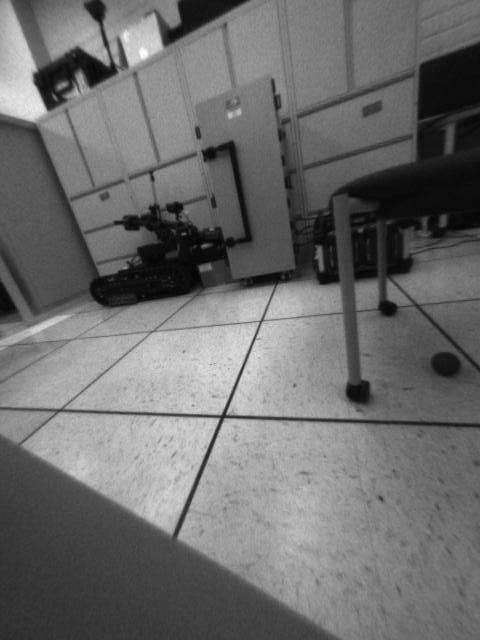dogtoy: (427, 341, 465, 380)
